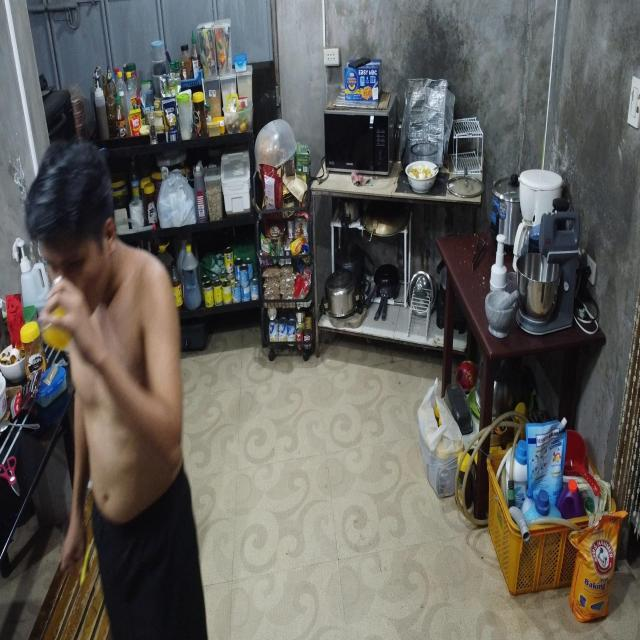scissor: (0, 455, 21, 500)
